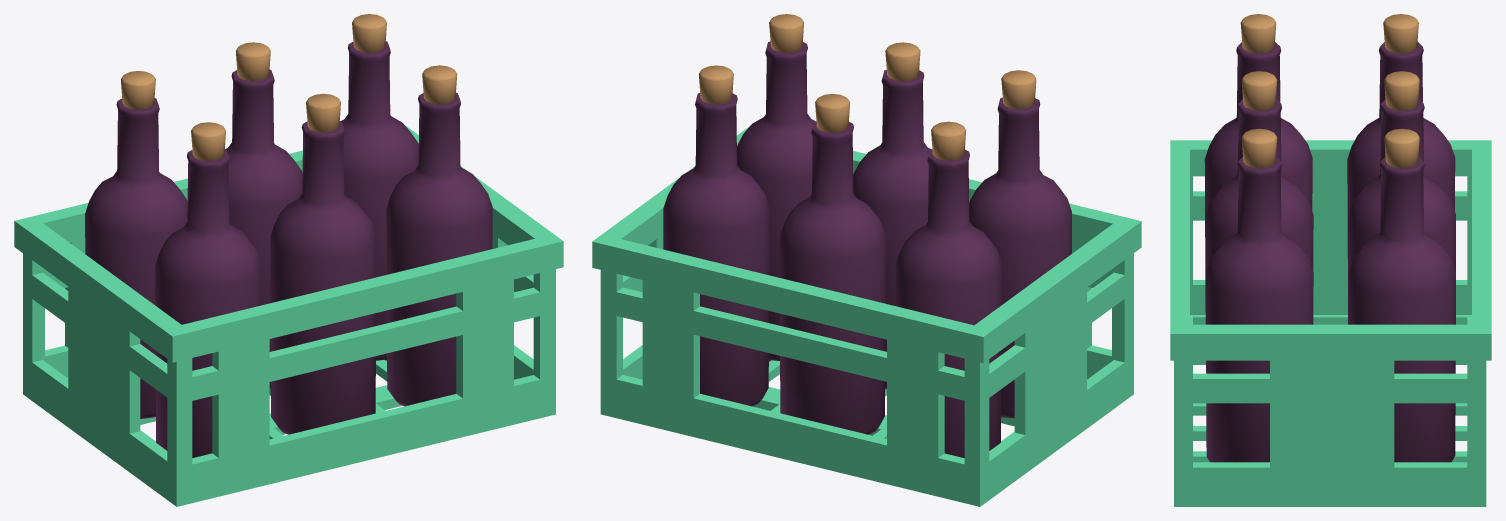
File: SM_Item_03.fbx
3 views of the same model, side by side, from view 1: azimuth 30°, elevation 25°; view 2: azimuth 150°, elevation 25°; view 3: azimuth 270°, elevation 25° (orthographic).
Visible parts, largest first — view 1: Cube.416; view 2: Cube.416; view 3: Cube.416.
Part boxes in pixels (<box>): Cube.416: <box>14,14,563,506</box>; Cube.416: <box>592,14,1141,506</box>; Cube.416: <box>1170,14,1491,506</box>.
Size of the model in its own units: 2.26 by 1.82 by 1.58.
